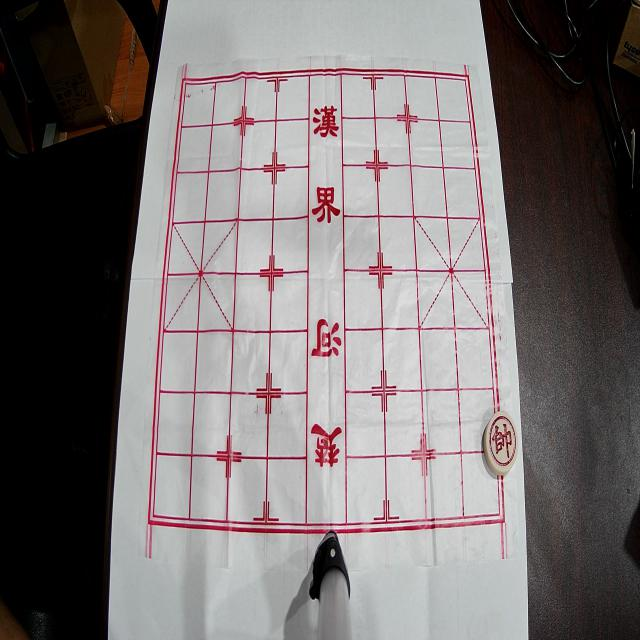red-general: (484, 411, 518, 475)
